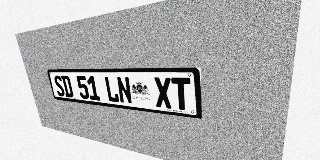1: (86, 76, 100, 101)
5: (76, 76, 90, 99)
D: (61, 75, 74, 98)
L: (104, 76, 120, 103)
N: (116, 76, 133, 104)
S: (53, 75, 66, 97)
T: (171, 77, 191, 111)
X: (153, 77, 173, 109)
